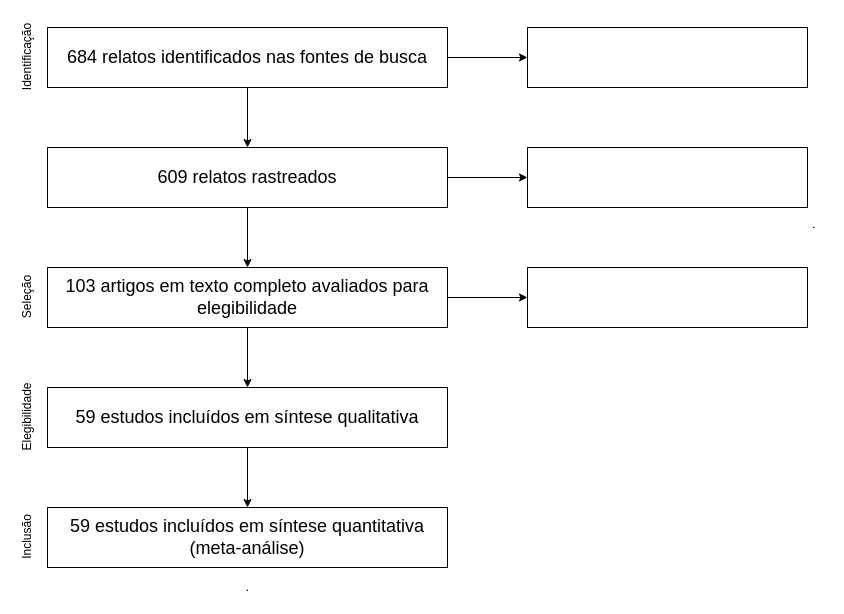
Image size: 844x614. Some labels were removed from this diagram. The shapes that lost their labels are listed below. From the top down, each one's centre as x and y in pixels, then its label:
(x=667, y=57): 75 relatos duplicados
(x=667, y=177): 506 relatos excluídos na seleção inicial
(x=667, y=297): 44 artigos em texto completo excluídos com justificativa
